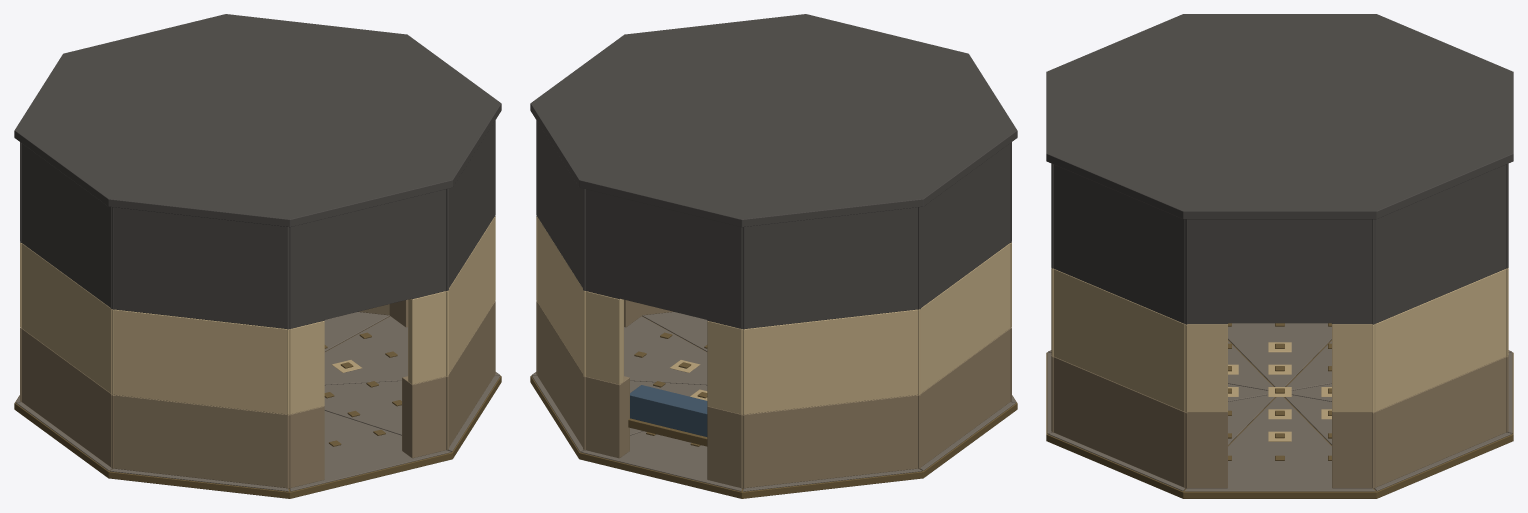
The model's file is berth.glb.
The picture shows the model from 3 angles, left to right: view 1: azimuth 30°, elevation 25°; view 2: azimuth 150°, elevation 25°; view 3: azimuth 270°, elevation 25°; orthographic projection. The views are drawn at different scales.
Parts seen in each view (by area): view 1: BERTH; view 2: BERTH; view 3: BERTH.
Boxes of the visible parts, box(x1,y1,x2,y2) form: BERTH: box(14, 14, 501, 498); BERTH: box(530, 14, 1017, 498); BERTH: box(1046, 14, 1513, 498).
Size of the model in its own units: 5.3 by 3.6 by 5.3.
